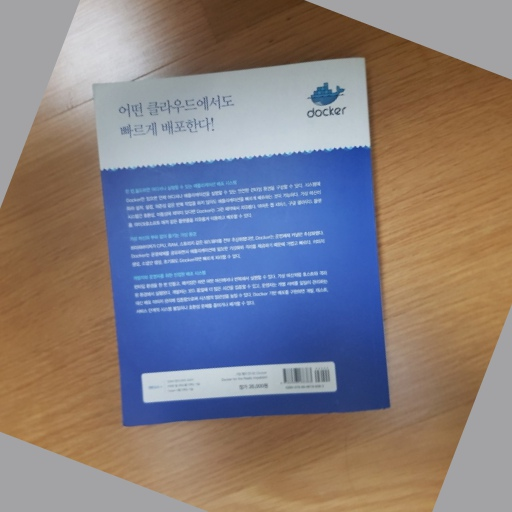Paper_0: (87, 53, 401, 430)
